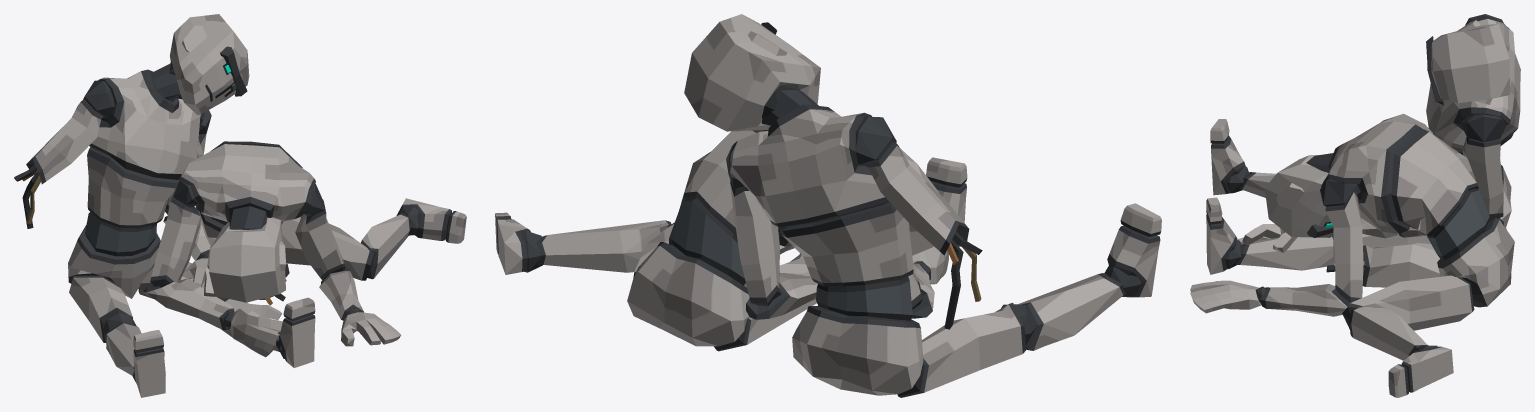
File: SM_Prop_Robot_Posed_Pile_02.fbx
3 views of the same model, side by side, from view 1: azimuth 30°, elevation 25°; view 2: azimuth 150°, elevation 25°; view 3: azimuth 270°, elevation 25° (orthographic). The views are drawn at different scales.
Visible parts, largest first — view 1: SM_Prop_Robot_Posed_Pile_02; view 2: SM_Prop_Robot_Posed_Pile_02; view 3: SM_Prop_Robot_Posed_Pile_02.
Boxes of the visible parts, x1,y1,x2,y2 form: SM_Prop_Robot_Posed_Pile_02: (14, 14, 466, 397); SM_Prop_Robot_Posed_Pile_02: (495, 14, 1161, 397); SM_Prop_Robot_Posed_Pile_02: (1190, 14, 1520, 397).
Size of the model in its own units: 157 by 91.8 by 102.
